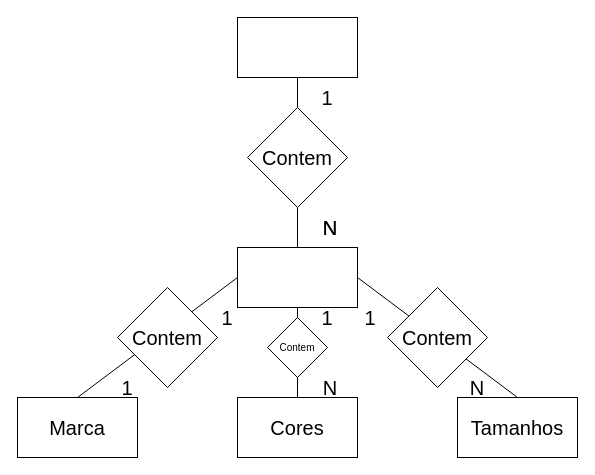
Some shapes in this 595 by 475 pixel diagram are drawn without their labels. Each missing label, with the centre of its shape:
"Camisetas" belongs at point (297, 277).
"Modas" belongs at point (297, 47).
